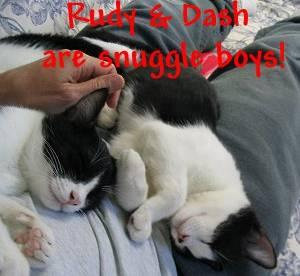cat: (0, 75, 275, 275), (99, 79, 273, 265)
